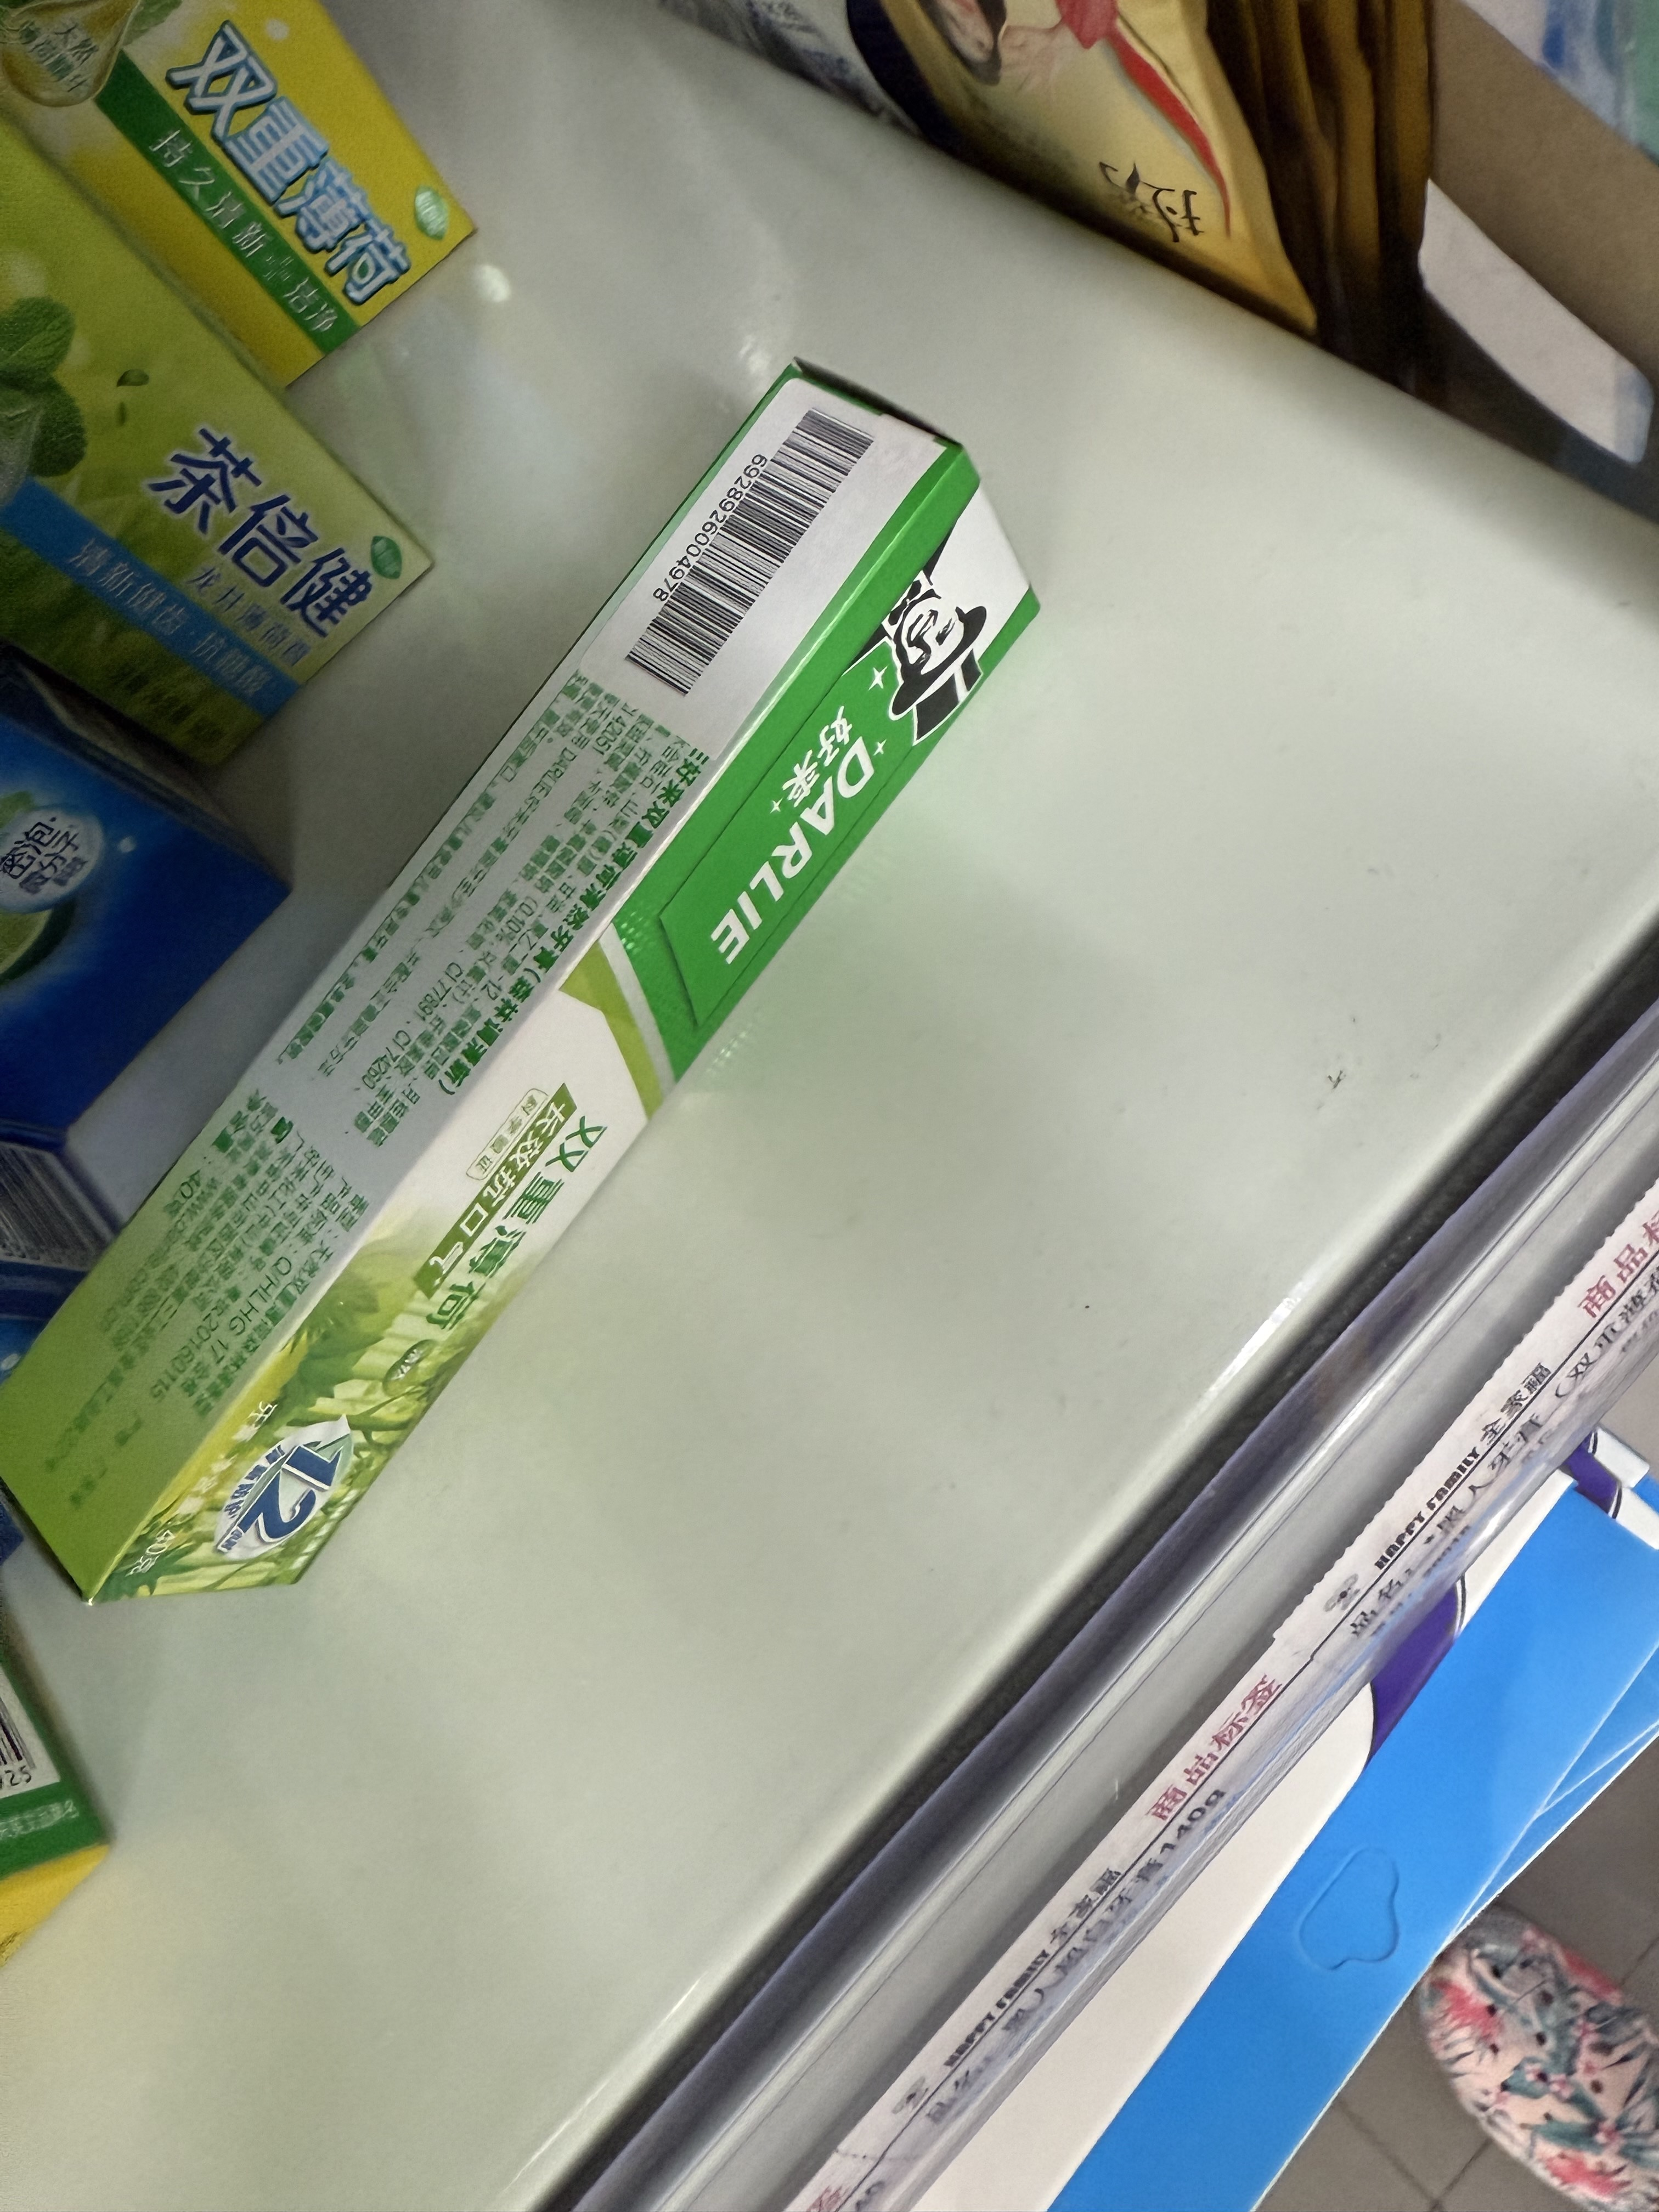bar: (615, 397, 880, 704)
